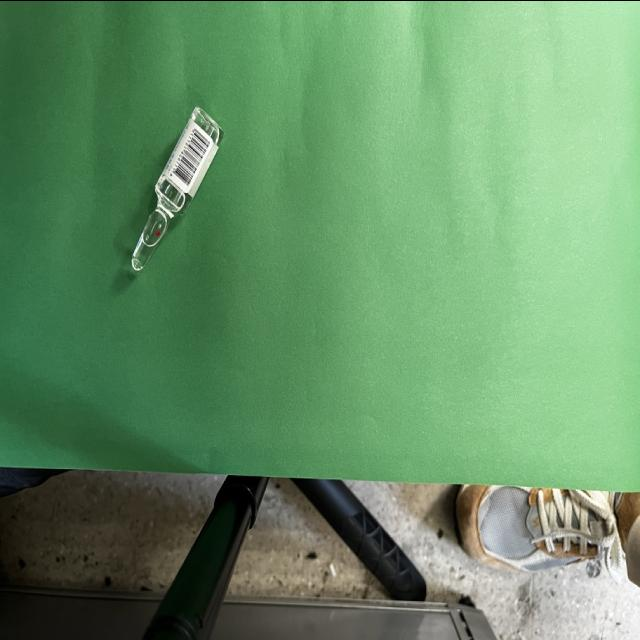Ampoules: (131, 106, 224, 271)
